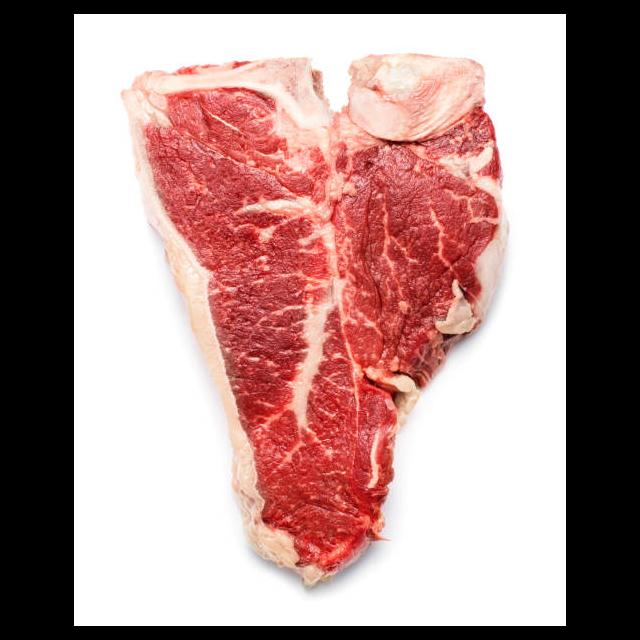beef: (118, 53, 511, 588)
